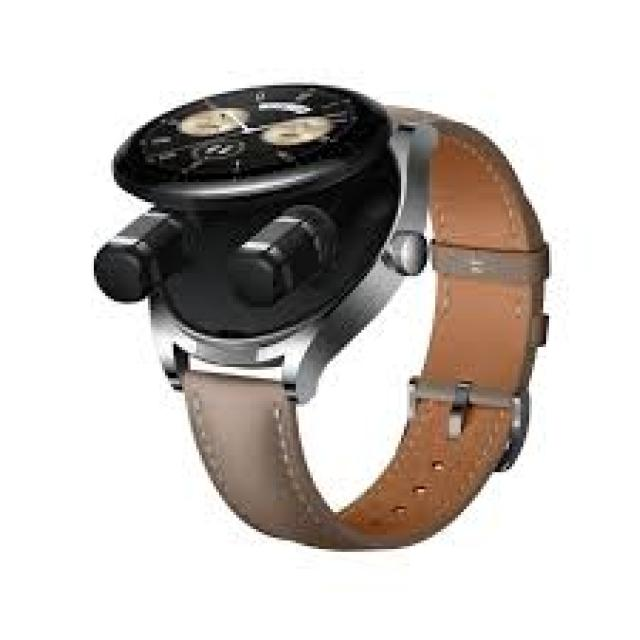watch: (74, 79, 437, 379)
